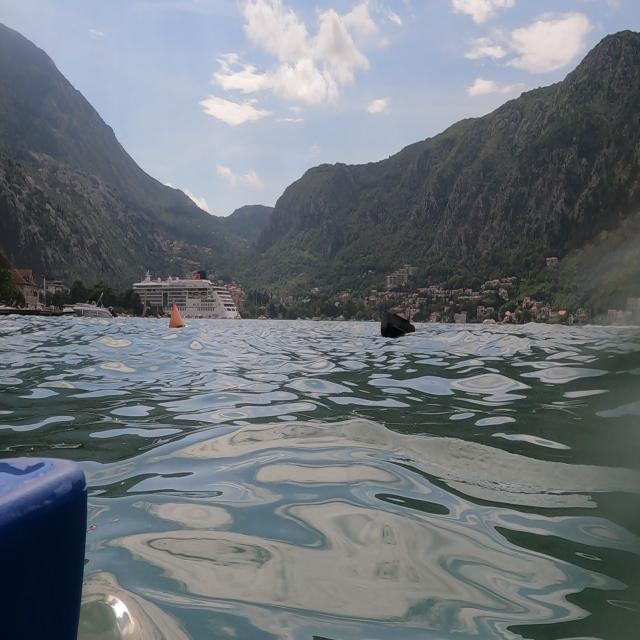boat: (130, 270, 250, 323)
buoy: (370, 300, 422, 352), (167, 300, 191, 342)
